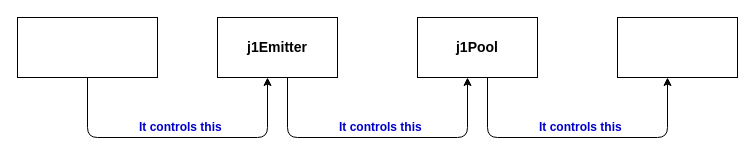
This 755x163 diagram has some shape labels left out. The shapes that lost their labels are listed below. From the top down, each one's centre as x and y in pixels, then its label:
At [87,47]: "j1ParticleManager".
At [677,47]: "j1Particle".
